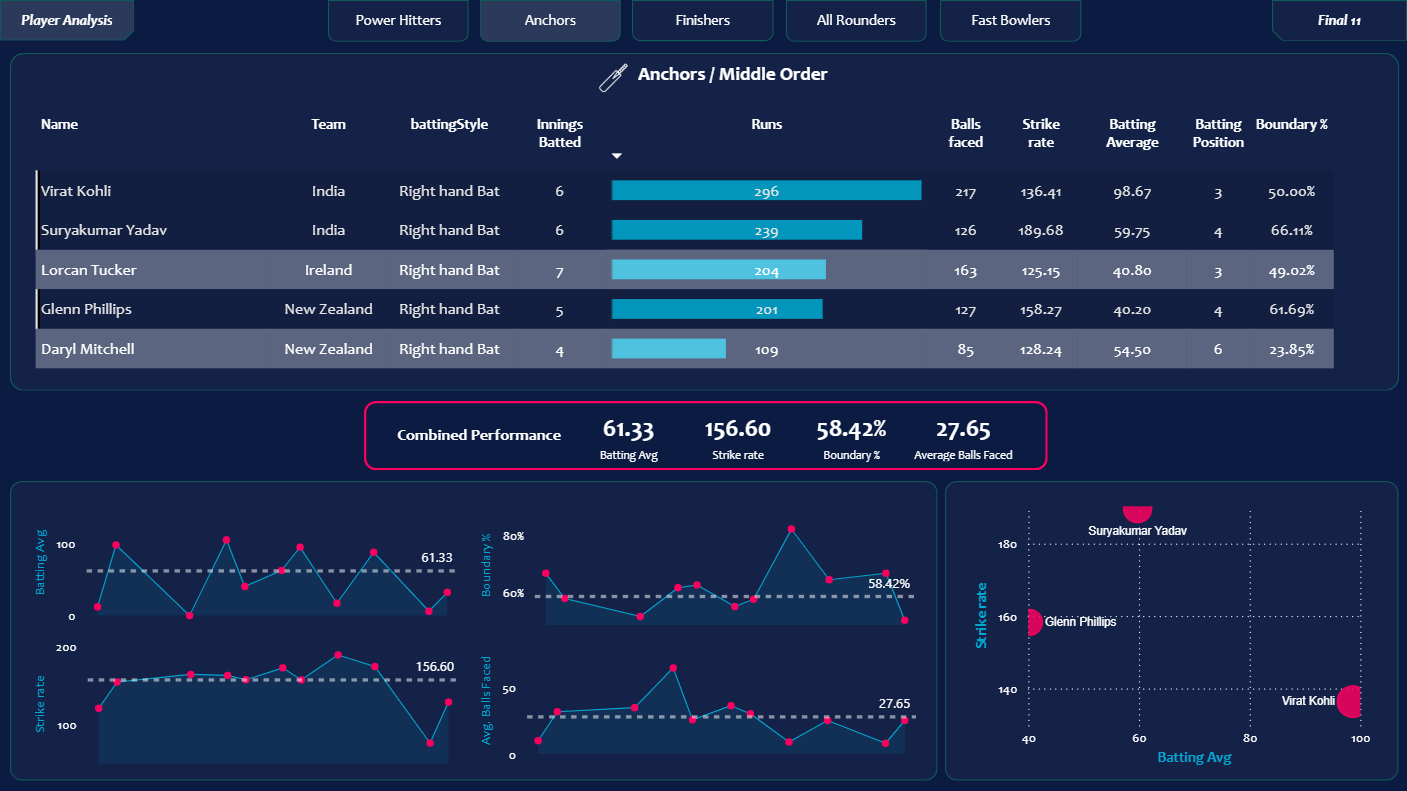

Layout of this report page (visuals, bound fields, positions):
{"tool":"powerbi","page":{"name":"Anchors / Middle Order","canvas":[1280,720],"ordinal":1},"visuals":[{"type":"tableEx","fields":{"Values":["dim_player.name","dim_player.team","dim_player.Batting Style","Key_Measures.Total Matches","Key_Measures.Total Runs","Key_Measures.Avergate Balls Faced","Key_Measures.Strike Rate","Key_Measures.Bat Avg","Key_Measures.Batting Position","Key_Measures.Boundary %"]},"box":[45.5,75.8,1074.2,186.4],"z":0},{"type":"scatterChart","fields":{"Category":["dim_player.name"],"X":["Key_Measures.Bat Avg"],"Series":["dim_player.name"],"Size":["Key_Measures.Total Runs"],"Y":["Key_Measures.Strike Rate"]},"box":[71,314.2,503.8,390],"z":1000},{"type":"slicer","fields":{"Values":["dim_match_summary.Stage"]},"box":[1119.7,125.8,156.1,86.4],"z":2000},{"type":"textbox","box":[37.9,16.5,325.8,29.2],"z":3000},{"type":"textbox","box":[71,285,325.8,29.2],"z":4000},{"type":"card","fields":{"Values":["Key_Measures.Bat Avg"]},"box":[677.9,328.8,202.3,129.4],"z":5000},{"type":"card","fields":{"Values":["Key_Measures.Strike Rate"]},"box":[932.8,328.8,186.7,129.4],"z":6000},{"type":"card","fields":{"Values":["Key_Measures.Avergate Balls Faced"]},"box":[786.9,492.2,186.7,149.8],"z":7000},{"type":"textbox","box":[677.9,299.6,325.8,29.2],"z":8000}]}

Visuals, with their boxes in screenshot pixels (x1, y1, x2, y2), scaled from the page's 1280x720 canvas onto the 1407x791 screenshot:
tableEx - dim_player.name x dim_player.team: {"left": 50, "top": 83, "right": 1231, "bottom": 288}
scatterChart - dim_player.name x Key_Measures.Bat Avg: {"left": 78, "top": 345, "right": 632, "bottom": 774}
slicer - dim_match_summary.Stage: {"left": 1231, "top": 138, "right": 1402, "bottom": 233}
textbox: {"left": 42, "top": 18, "right": 400, "bottom": 50}
textbox: {"left": 78, "top": 313, "right": 436, "bottom": 345}
card - Key_Measures.Bat Avg: {"left": 745, "top": 361, "right": 968, "bottom": 503}
card - Key_Measures.Strike Rate: {"left": 1025, "top": 361, "right": 1231, "bottom": 503}
card - Key_Measures.Avergate Balls Faced: {"left": 865, "top": 541, "right": 1070, "bottom": 705}
textbox: {"left": 745, "top": 329, "right": 1103, "bottom": 361}
